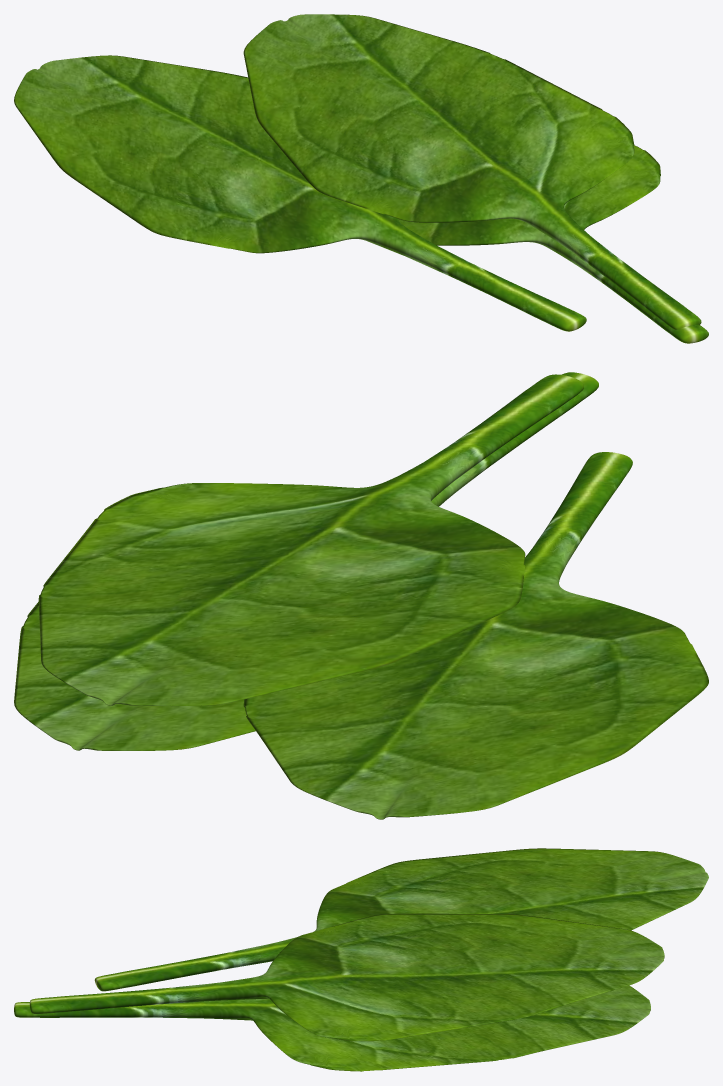
The model's file is spinach.fbx.
3 renders of one model, top to bottom at view 1: azimuth 30°, elevation 25°; view 2: azimuth 150°, elevation 25°; view 3: azimuth 270°, elevation 25°, orthographic. The views are drawn at different scales.
Parts seen in each view (by area): view 1: pCube8, pCube9, pCube7; view 2: pCube8, pCube9, pCube7; view 3: pCube8, pCube9, pCube7.
Part boxes in pixels (x1,y1,x2,y2): pCube8: (243,14,701,329); pCube9: (14,55,586,331); pCube7: (398,145,708,343); pCube8: (38,374,583,706); pCube9: (243,452,708,819); pCube7: (14,372,598,750); pCube8: (29,913,664,1041); pCube9: (94,848,708,991); pCube7: (14,985,650,1071).
Size of the model in its own units: 1.69 by 0.2033 by 2.47.
1 material, 1 textured.
